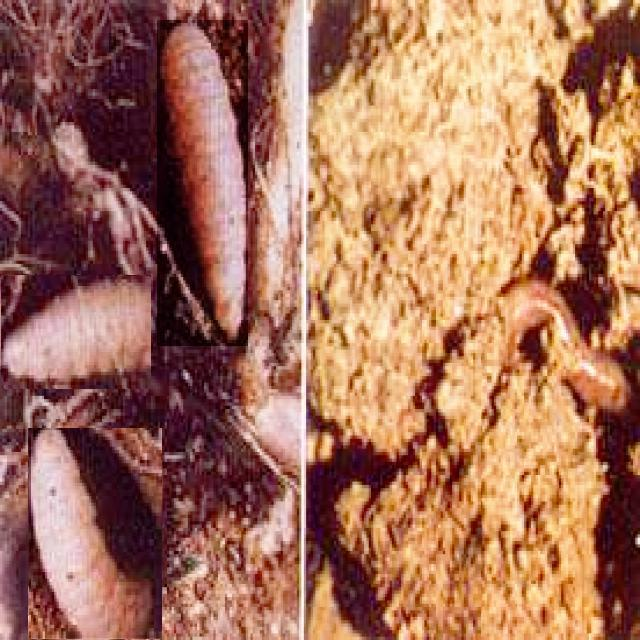whorl-maggot: (157, 20, 248, 346), (30, 429, 162, 638), (2, 276, 150, 388)
